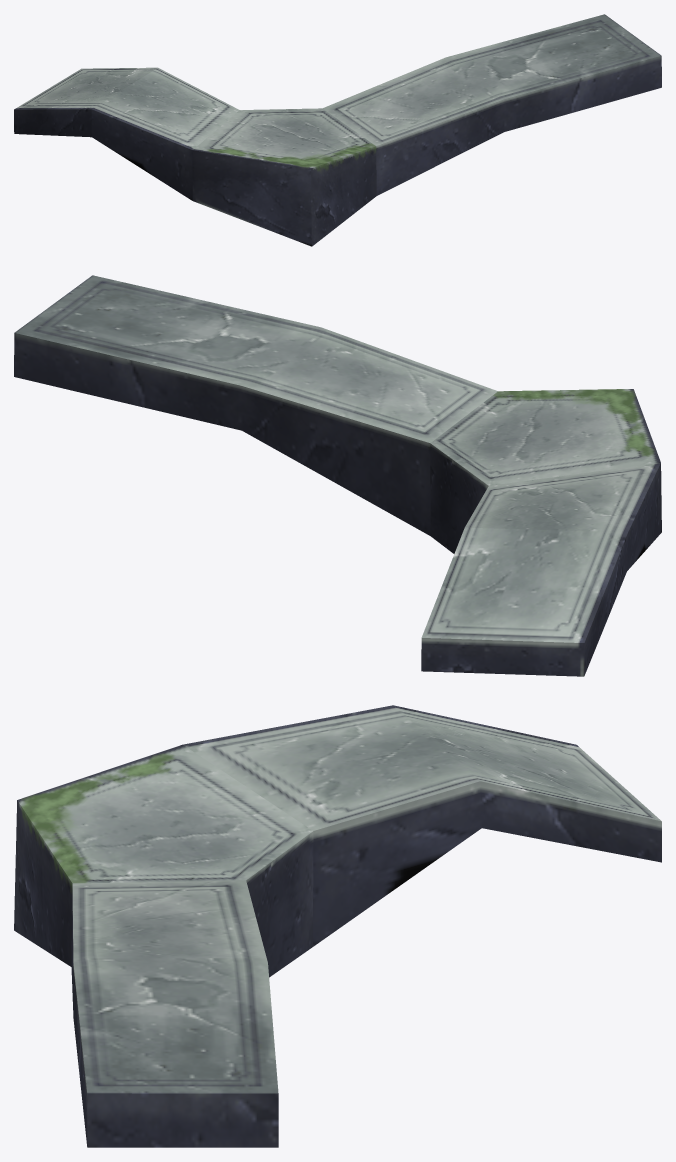
Rendered from tashuiqiao01.FBX.
3 views of the same model, one above another, from view 1: azimuth 30°, elevation 25°; view 2: azimuth 150°, elevation 25°; view 3: azimuth 270°, elevation 25° (orthographic). The views are drawn at different scales.
Visible parts, largest first — view 1: tashuiqiao; view 2: tashuiqiao; view 3: tashuiqiao.
Part boxes in pixels (x1,y1,x2,y2): tashuiqiao: (14, 14, 661, 246); tashuiqiao: (14, 275, 661, 676); tashuiqiao: (14, 705, 661, 1147).
Size of the model in its own units: 1667 by 1106 by 273.
